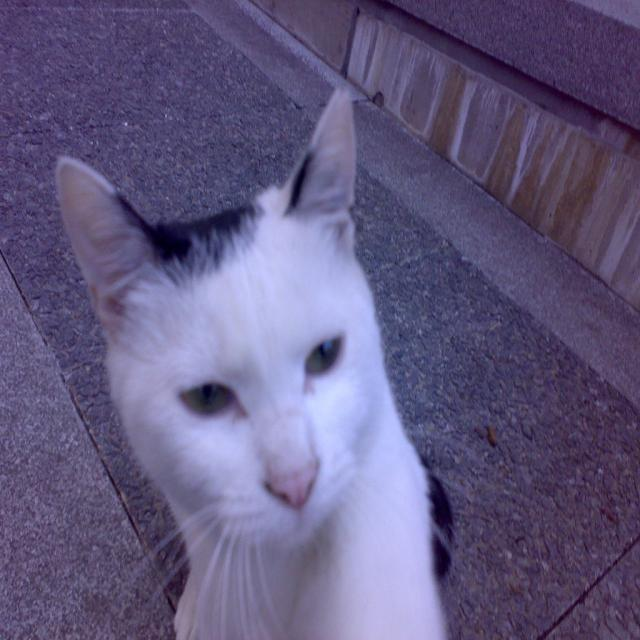Cat: (56, 81, 474, 637)
